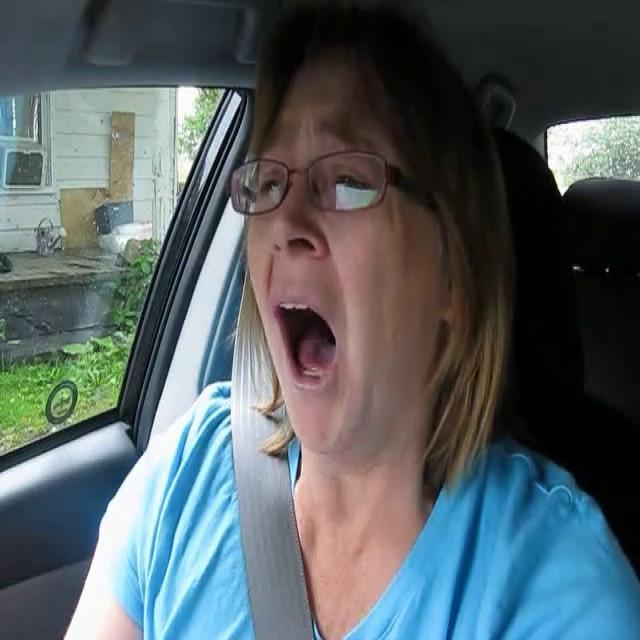open: (311, 120, 385, 230), (249, 128, 295, 234)
